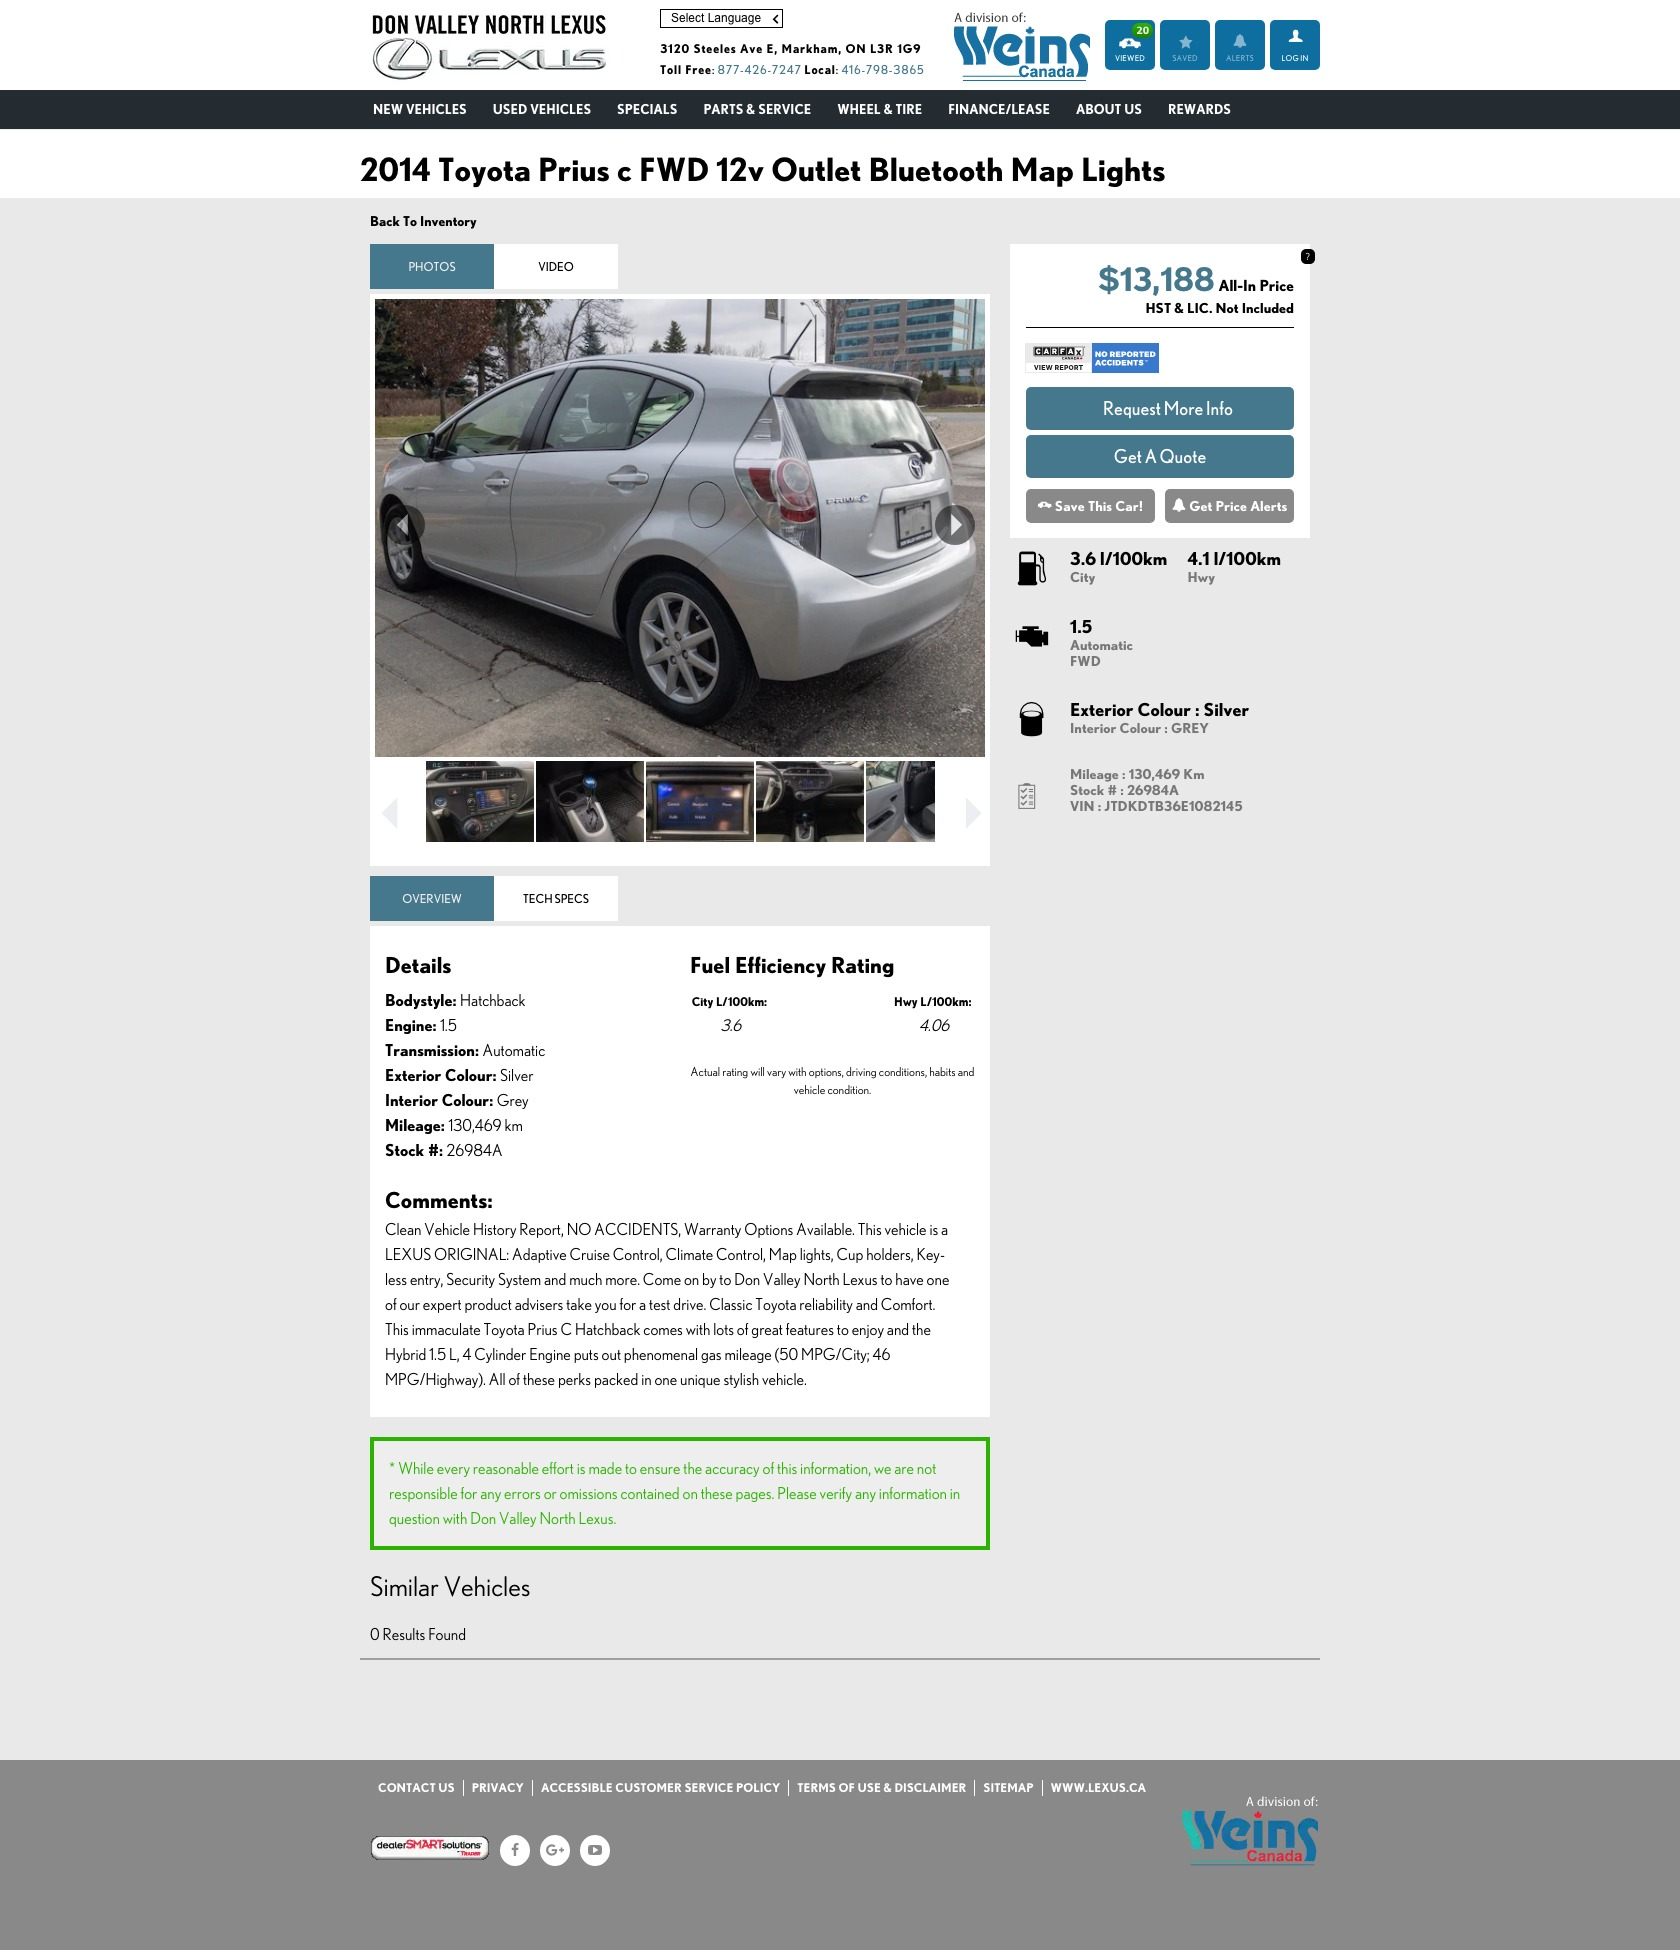car: (964, 794, 985, 832)
